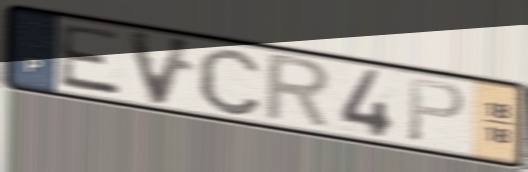4: (337, 66, 397, 140)
C: (195, 45, 265, 119)
E: (57, 21, 125, 99)
P: (405, 75, 468, 145)
R: (260, 50, 336, 134)
V: (124, 25, 200, 110)
